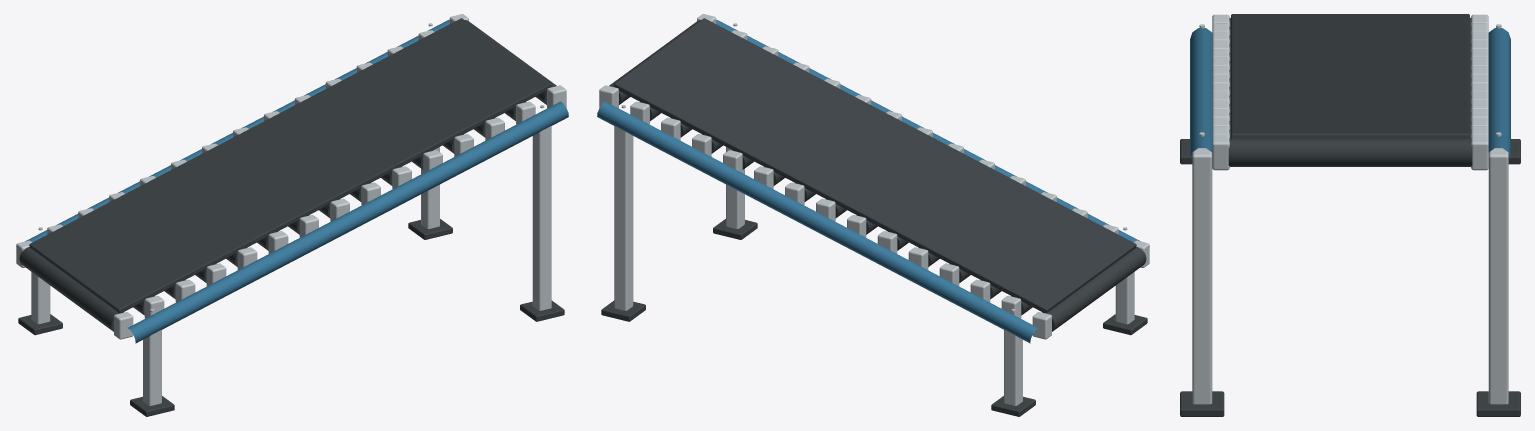
Rendered from recycling-centre-and-material-sorting-inclined-feed-co-407d558a__31108.glb.
3 views of the same model, side by side, from view 1: azimuth 30°, elevation 25°; view 2: azimuth 150°, elevation 25°; view 3: azimuth 270°, elevation 25° (orthographic). The views are drawn at different scales.
Parts seen in each view (by area): view 1: inclined-feed-conveyor; view 2: inclined-feed-conveyor; view 3: inclined-feed-conveyor.
Part boxes in pixels (<box>): inclined-feed-conveyor: <box>16,14,568,416</box>; inclined-feed-conveyor: <box>597,14,1149,416</box>; inclined-feed-conveyor: <box>1180,14,1520,416</box>.
Bounding box in the file's own units: 3.13 × 1.43 × 1.54.
